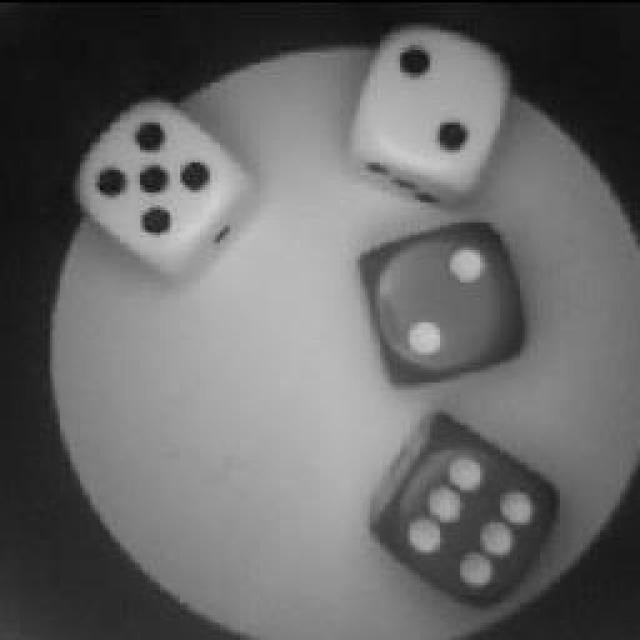dice_2: (352, 20, 512, 195), (368, 228, 528, 378)
dice_5: (77, 110, 245, 262)
dice_6: (383, 430, 555, 608)
